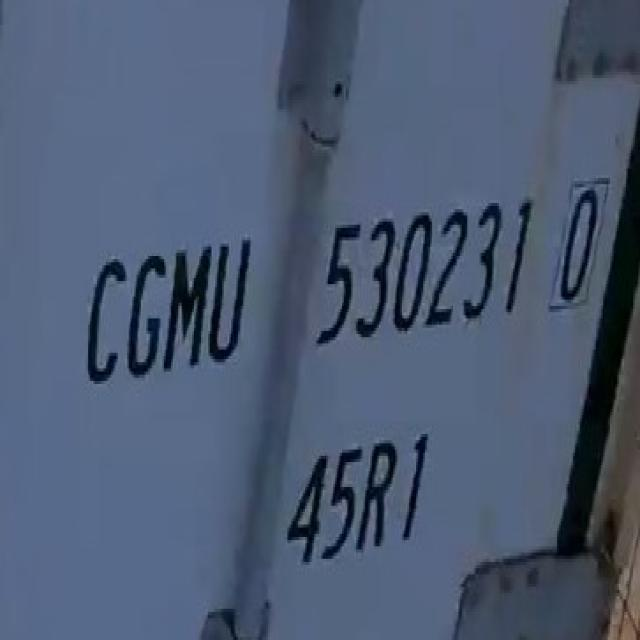dv: (550, 165, 609, 328)
owner: (77, 228, 258, 393)
serial: (306, 163, 537, 357)
size: (275, 415, 438, 576)
